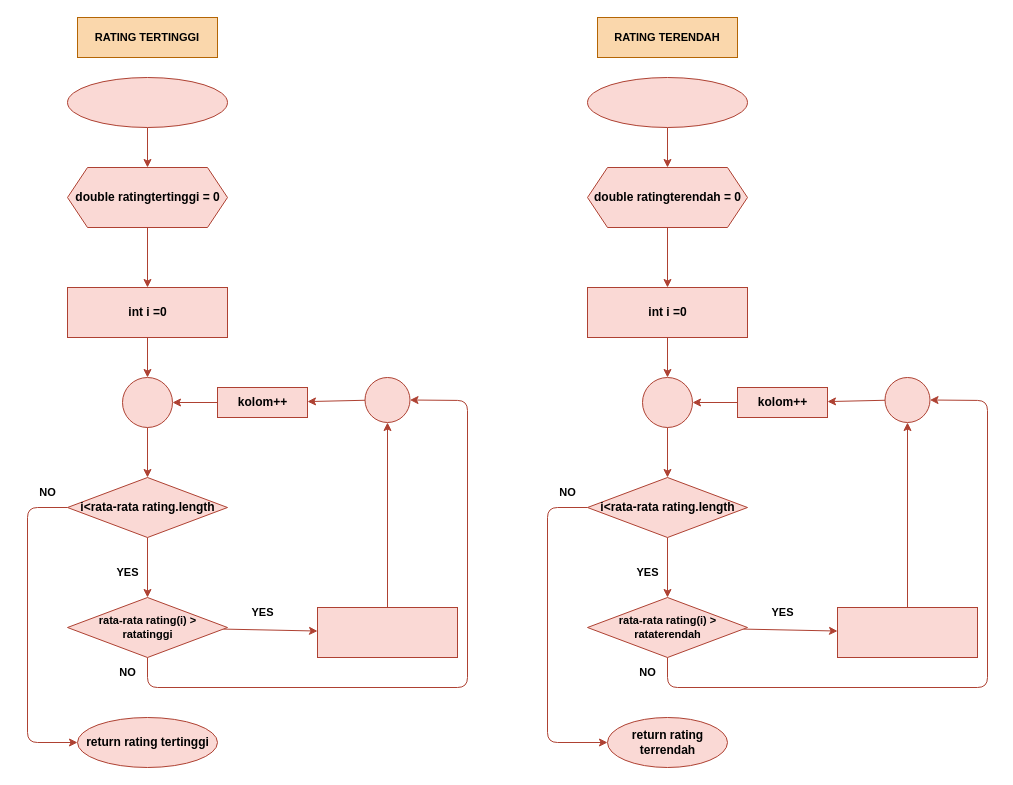
Some shapes in this 1013 by 785 pixel diagram are drawn without their labels. The shapes that lost their labels are listed below. From the top down, each one's centre as x and y in pixels, then its label:
point 147,102: rating tertinggi (rating)
point 667,102: rating terendah (rating)
point 387,632: rating tertinggi = rata-rata rating(i)
point 907,632: rating terendah = rata-rata rating(i)
